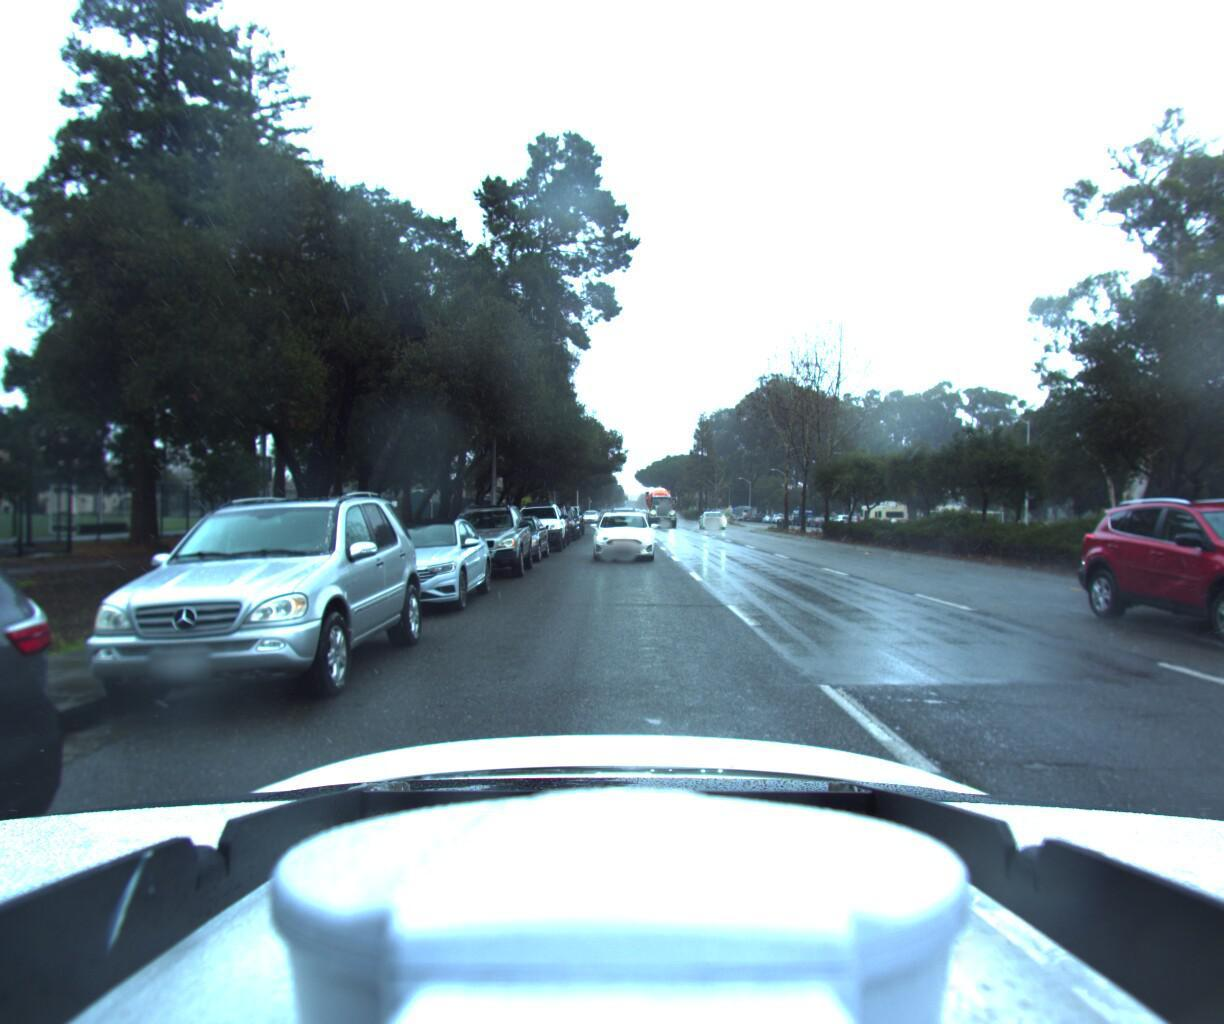car: (42, 480, 430, 726), (1123, 488, 1224, 698), (310, 513, 486, 619), (428, 498, 531, 581), (472, 513, 546, 564), (591, 505, 655, 561), (505, 498, 564, 552), (521, 500, 569, 545), (700, 508, 730, 529)
other_vehicle: (855, 497, 911, 533)
truck: (639, 483, 676, 525)
